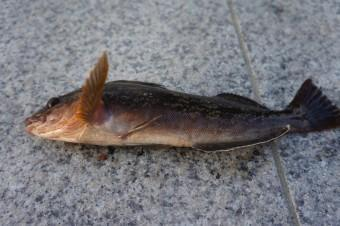fish: (25, 53, 339, 150)
